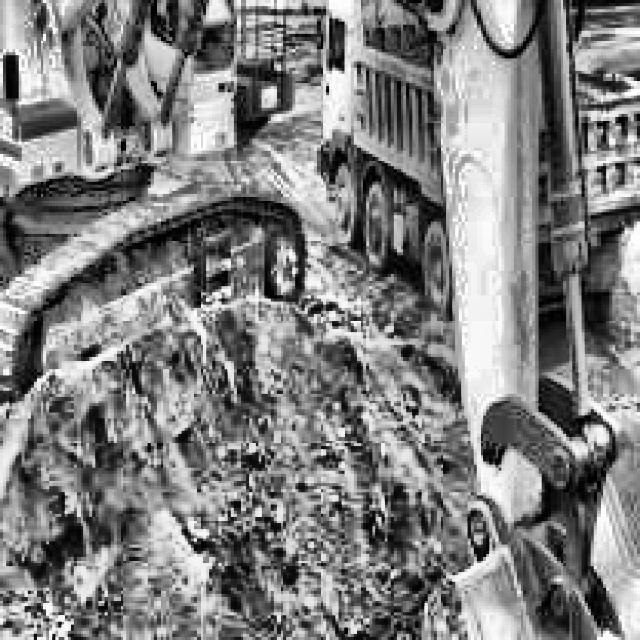dump_truck: (320, 0, 640, 314)
excavator: (0, 0, 640, 640)
